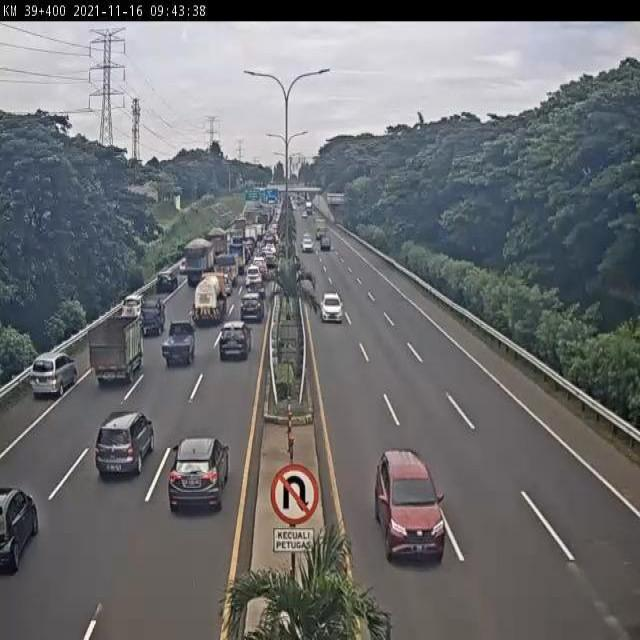car: (362, 435, 458, 576), (168, 430, 229, 514), (0, 469, 42, 583), (20, 342, 83, 414), (95, 407, 154, 481), (151, 311, 204, 380), (209, 312, 259, 373), (310, 281, 353, 336), (131, 291, 174, 340), (146, 260, 182, 309), (233, 290, 269, 338), (110, 288, 152, 327), (238, 259, 268, 296), (242, 276, 268, 313), (170, 248, 192, 283)
small truck: (214, 257, 241, 292)
truck-l-: (183, 237, 218, 284)
truck-m-: (79, 299, 152, 397), (180, 267, 234, 336)
